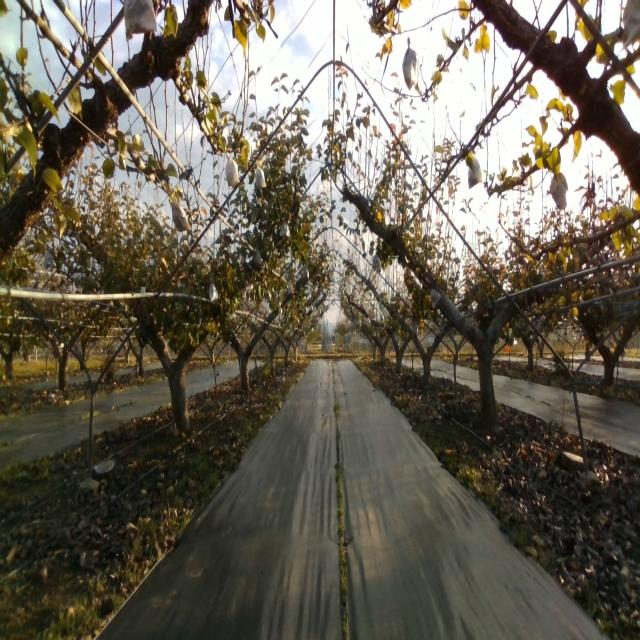pearbags: (124, 0, 158, 42), (622, 0, 640, 49), (402, 36, 418, 90), (169, 197, 190, 232), (550, 172, 568, 210), (225, 152, 240, 189), (468, 158, 482, 189), (255, 161, 267, 189), (430, 287, 442, 309), (208, 283, 219, 303)
